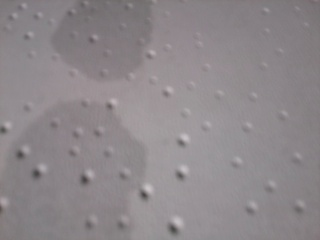Water_detected: (60, 36, 178, 240)
